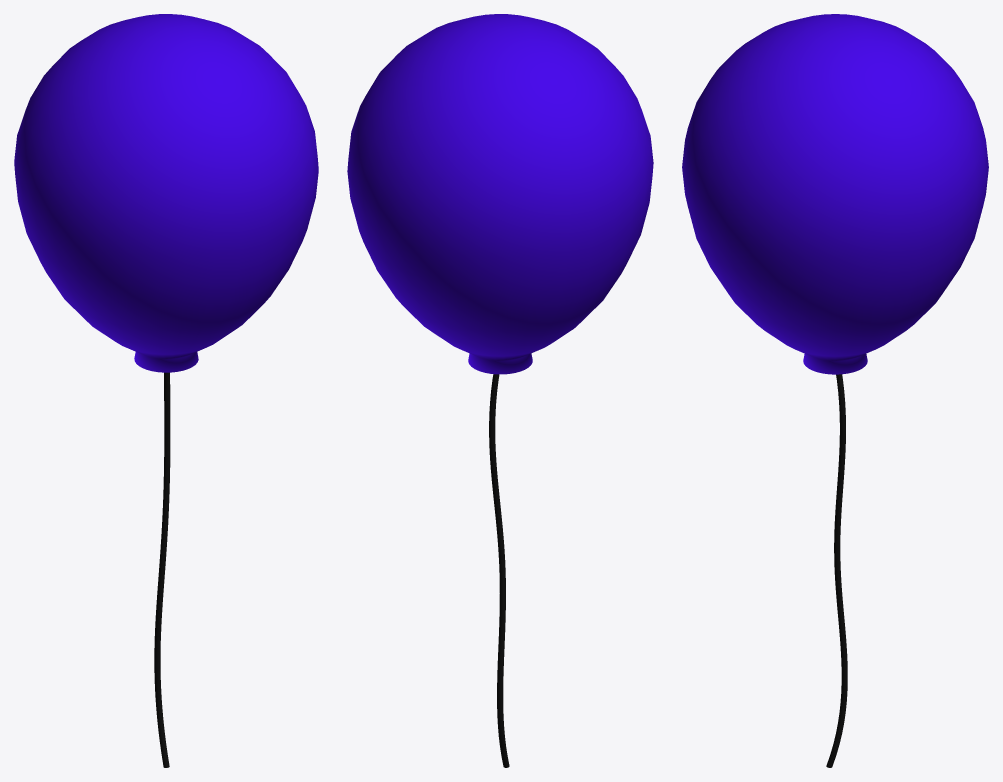
File: balloon 5.fbx
3 renders of one model, left to right at view 1: azimuth 30°, elevation 25°; view 2: azimuth 150°, elevation 25°; view 3: azimuth 270°, elevation 25°, orthographic.
Parts seen in each view (by area): view 1: Sphere, NurbsPath; view 2: Sphere, NurbsPath; view 3: Sphere, NurbsPath.
Boxes of the visible parts, left/top/right/bottom form: Sphere: left=14, top=14, right=318, bottom=372; NurbsPath: left=154, top=372, right=170, bottom=767; Sphere: left=347, top=14, right=653, bottom=374; NurbsPath: left=489, top=374, right=509, bottom=767; Sphere: left=682, top=14, right=988, bottom=374; NurbsPath: left=826, top=374, right=847, bottom=767.
Bounding box in the file's own units: 99.24 × 264 × 99.24.
